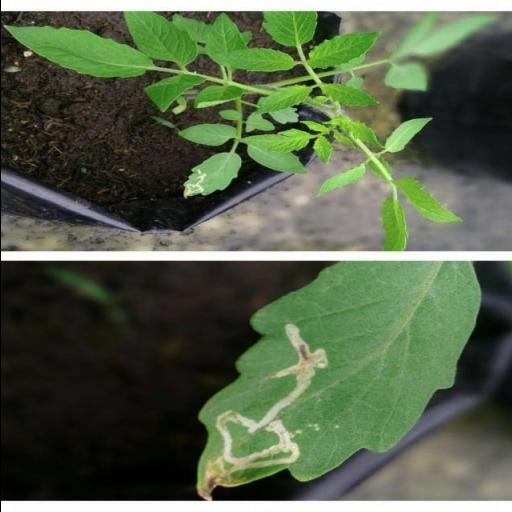disease_tomato: (196, 260, 479, 501), (178, 154, 240, 198)
